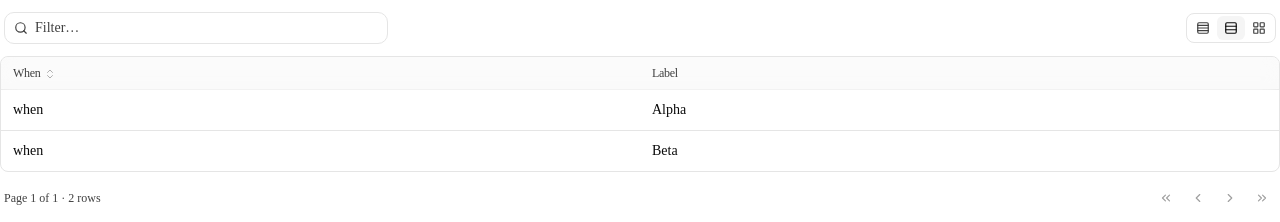
Test: DataTable global filter wiring › filters even when NO column survives the row-zero type sniff
Type "Alpha" into the field named "filter table". click: coordinates (196, 28)
box: [4, 12, 388, 44]
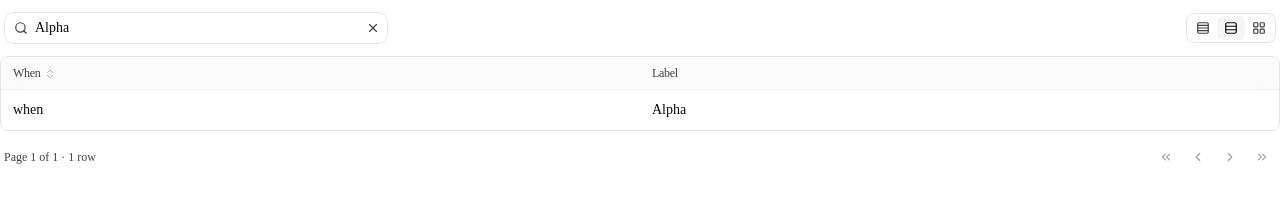
Check: the text "Alpha" is shown, box [652, 102, 686, 117]
Check: the text "Beta" is gone
